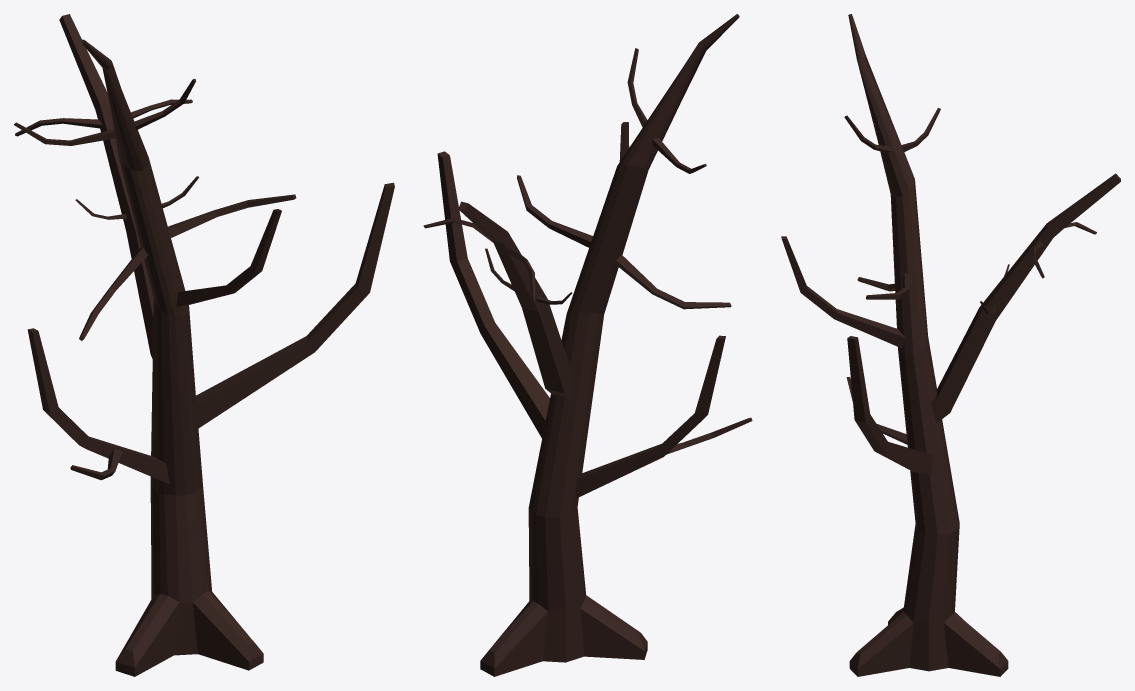
The model's file is 12 Tree_Wood.FBX.
3 views of the same model, side by side, from view 1: azimuth 30°, elevation 25°; view 2: azimuth 150°, elevation 25°; view 3: azimuth 270°, elevation 25° (orthographic). The views are drawn at different scales.
Visible parts, largest first — view 1: _11_tree005; view 2: _11_tree005; view 3: _11_tree005.
Part boxes in pixels (x1,y1,x2,y2): _11_tree005: (14,14,394,676); _11_tree005: (423,14,752,676); _11_tree005: (781,14,1120,676).
Bounding box in the file's own units: 974 × 1873 × 986.
